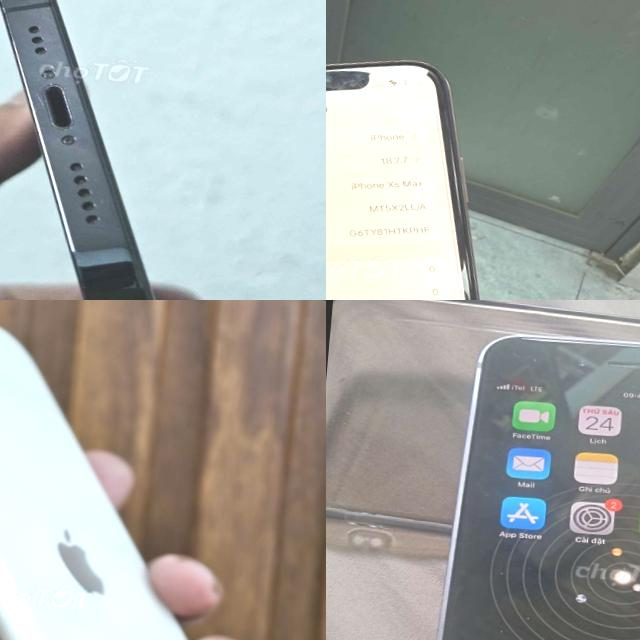gen_11: (0, 300, 326, 640)
gen_12_13: (0, 0, 208, 300)
gen_7_8: (396, 318, 640, 640)
gen_x_xs: (326, 43, 542, 300)
scratch: (460, 545, 573, 640), (18, 70, 65, 127), (520, 347, 540, 362)
